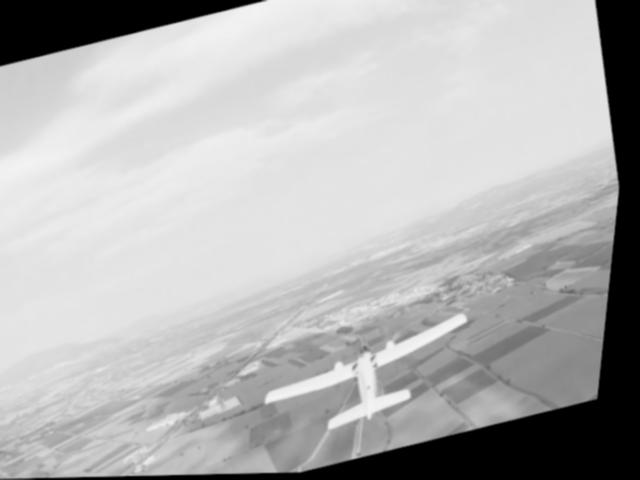hedef: (253, 300, 500, 457)
